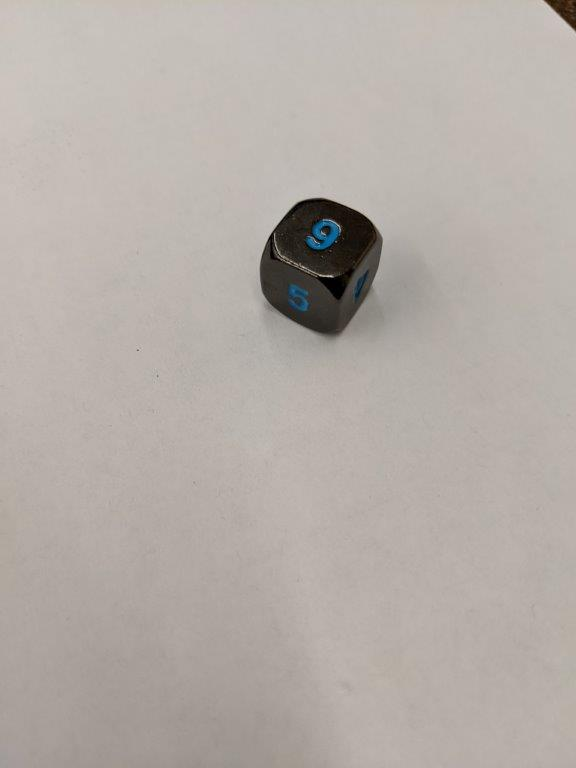d6-6: (260, 199, 382, 338)
